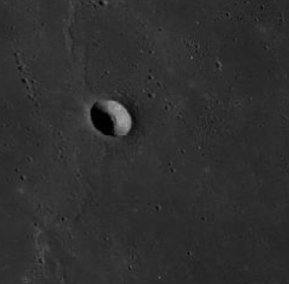crater: (40, 56, 186, 183)
